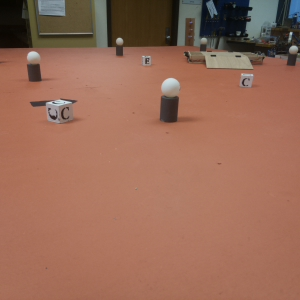blockC: (46, 100, 73, 124), (239, 74, 253, 89)
blockE: (141, 54, 152, 65)
corner: (185, 18, 194, 47)
obstacle: (161, 79, 180, 125), (27, 52, 40, 80), (288, 45, 299, 66), (115, 38, 124, 55), (199, 38, 207, 53)
side: (249, 50, 267, 65), (184, 50, 201, 65)
slope: (204, 57, 253, 69)
